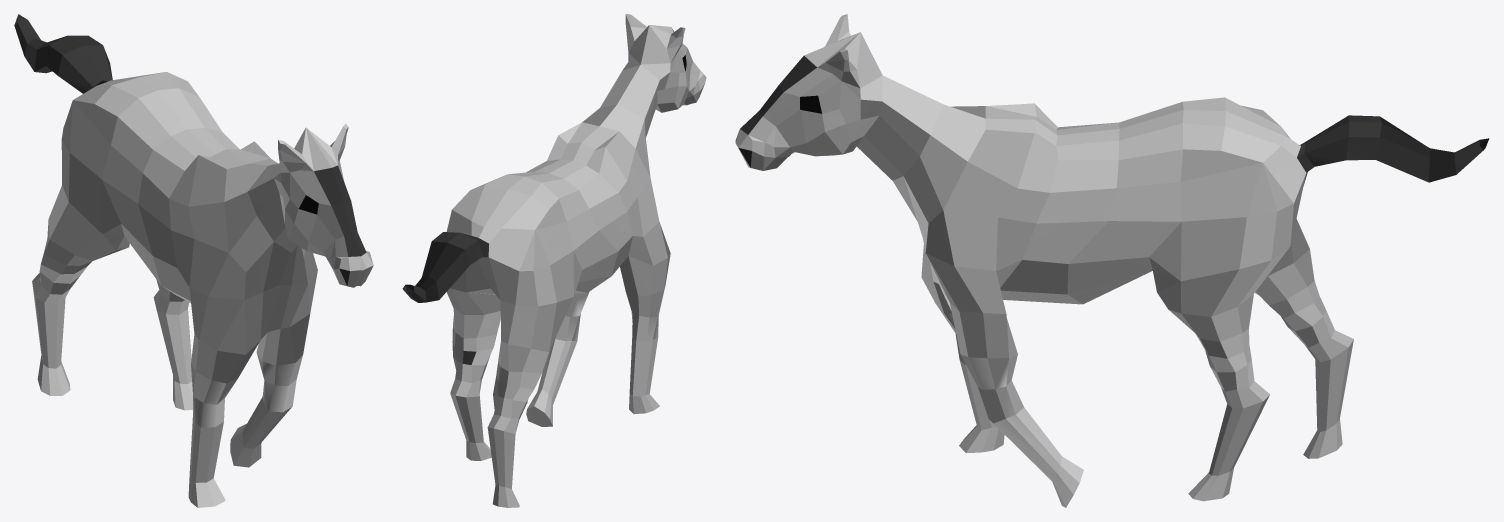
The model's file is Horse_2.FBX.
3 renders of one model, left to right at view 1: azimuth 30°, elevation 25°; view 2: azimuth 150°, elevation 25°; view 3: azimuth 270°, elevation 25°, orthographic. The views are drawn at different scales.
Visible parts, largest first — view 1: Horse_2; view 2: Horse_2; view 3: Horse_2.
Part boxes in pixels (x1,y1,x2,y2): Horse_2: (14,14,373,507); Horse_2: (402,14,706,507); Horse_2: (735,14,1489,507).
Size of the model in its own units: 0.6935 by 2 by 3.
1 material, 1 textured.
